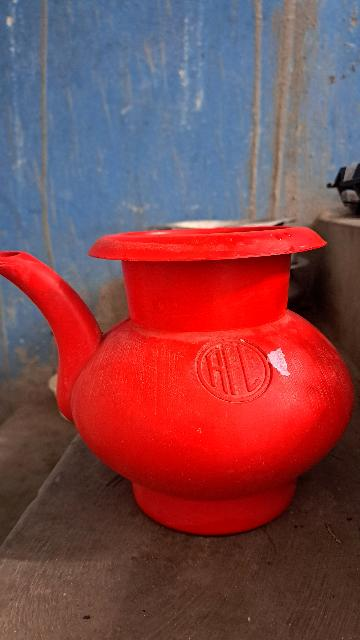hardplastic: (0, 195, 360, 545)
